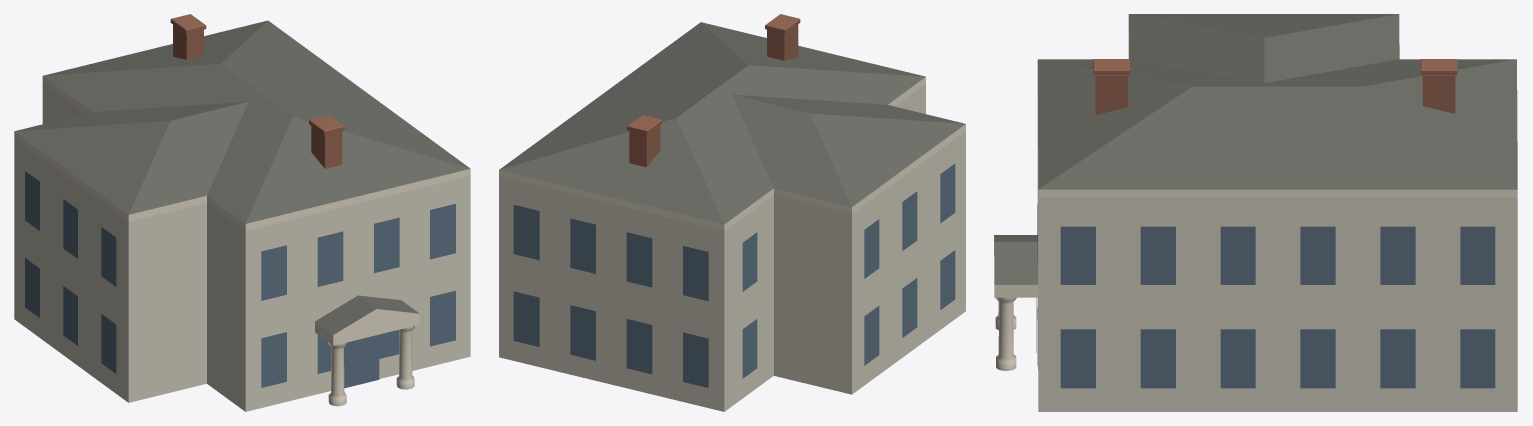
The model's file is dc-au-presidents-office.glb.
The picture shows the model from 3 angles, left to right: view 1: azimuth 30°, elevation 25°; view 2: azimuth 150°, elevation 25°; view 3: azimuth 270°, elevation 25°; orthographic projection. The views are drawn at different scales.
Visible parts, largest first — view 1: President’s Office; view 2: President’s Office; view 3: President’s Office.
Part boxes in pixels (x1,y1,x2,y2): President’s Office: (14,14,470,411); President’s Office: (499,14,965,411); President’s Office: (994,14,1517,411).
Size of the model in its own units: 14.8 by 11.04 by 18.6.
